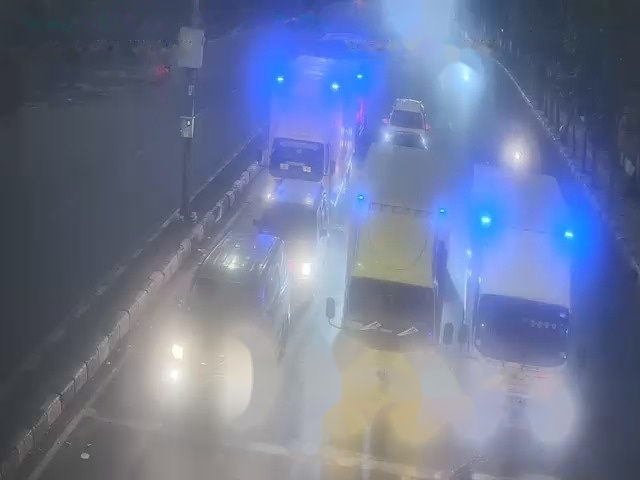Mobil: (178, 231, 283, 408), (383, 86, 432, 152)
Motor: (508, 144, 527, 172)
Truk: (460, 175, 578, 443), (341, 196, 455, 402), (261, 19, 350, 203)
